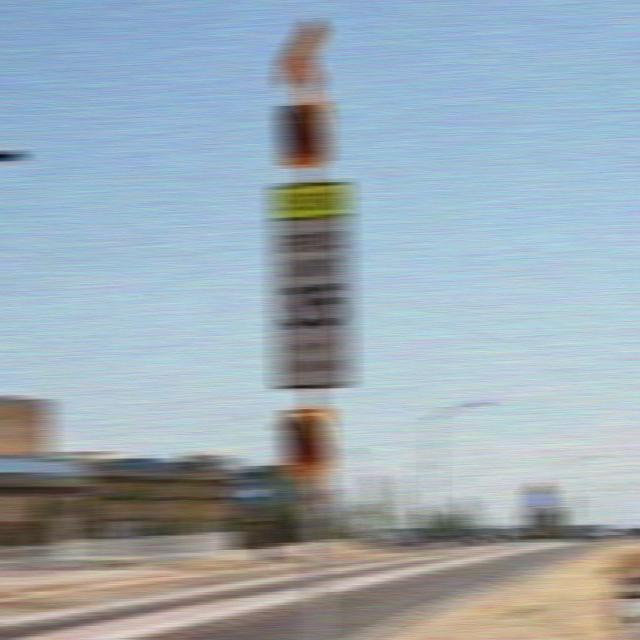speedLimit35: (272, 215, 352, 334)
